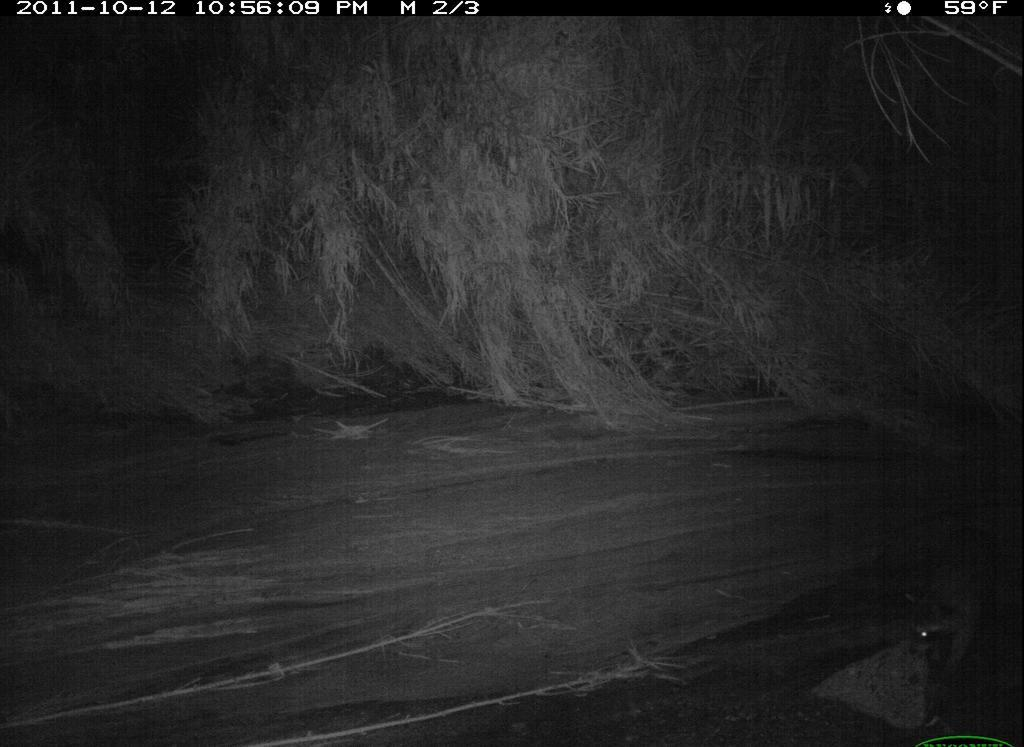raccoon: (898, 530, 1022, 674)
